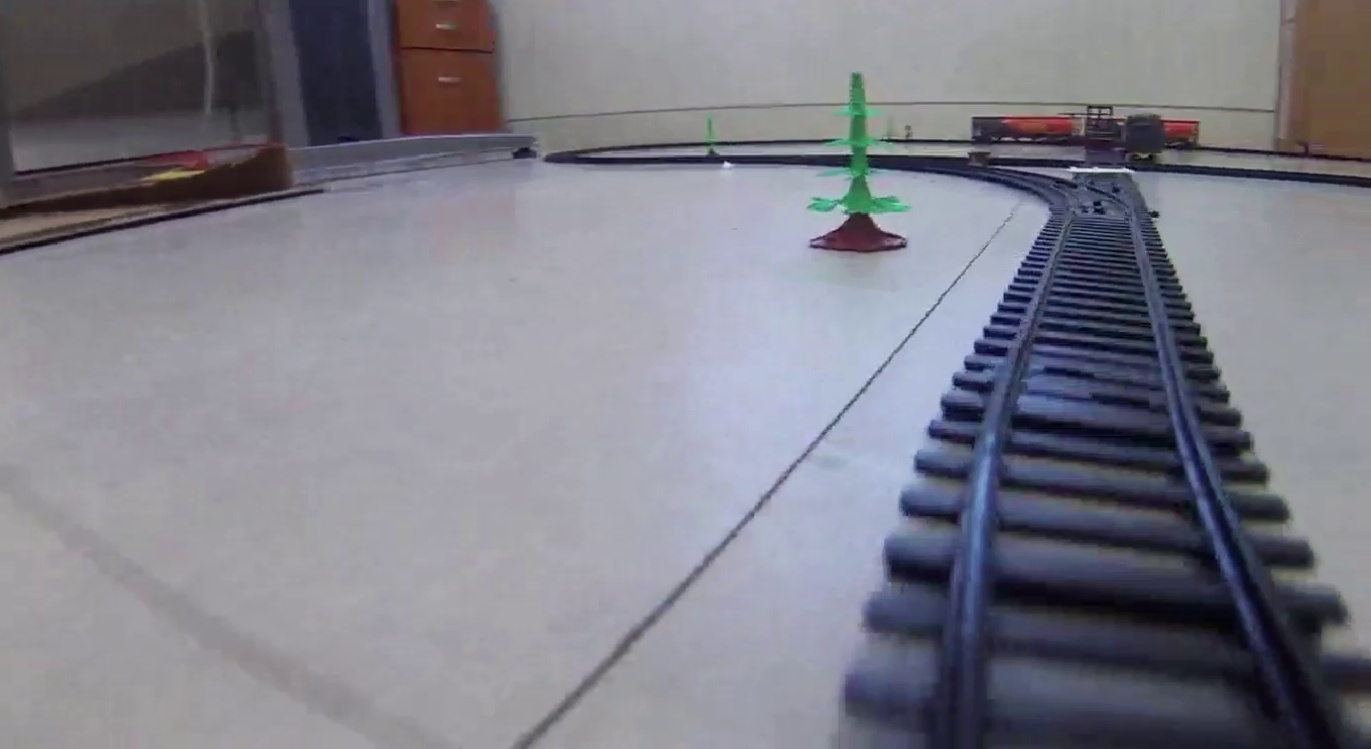tree: (802, 71, 906, 250)
